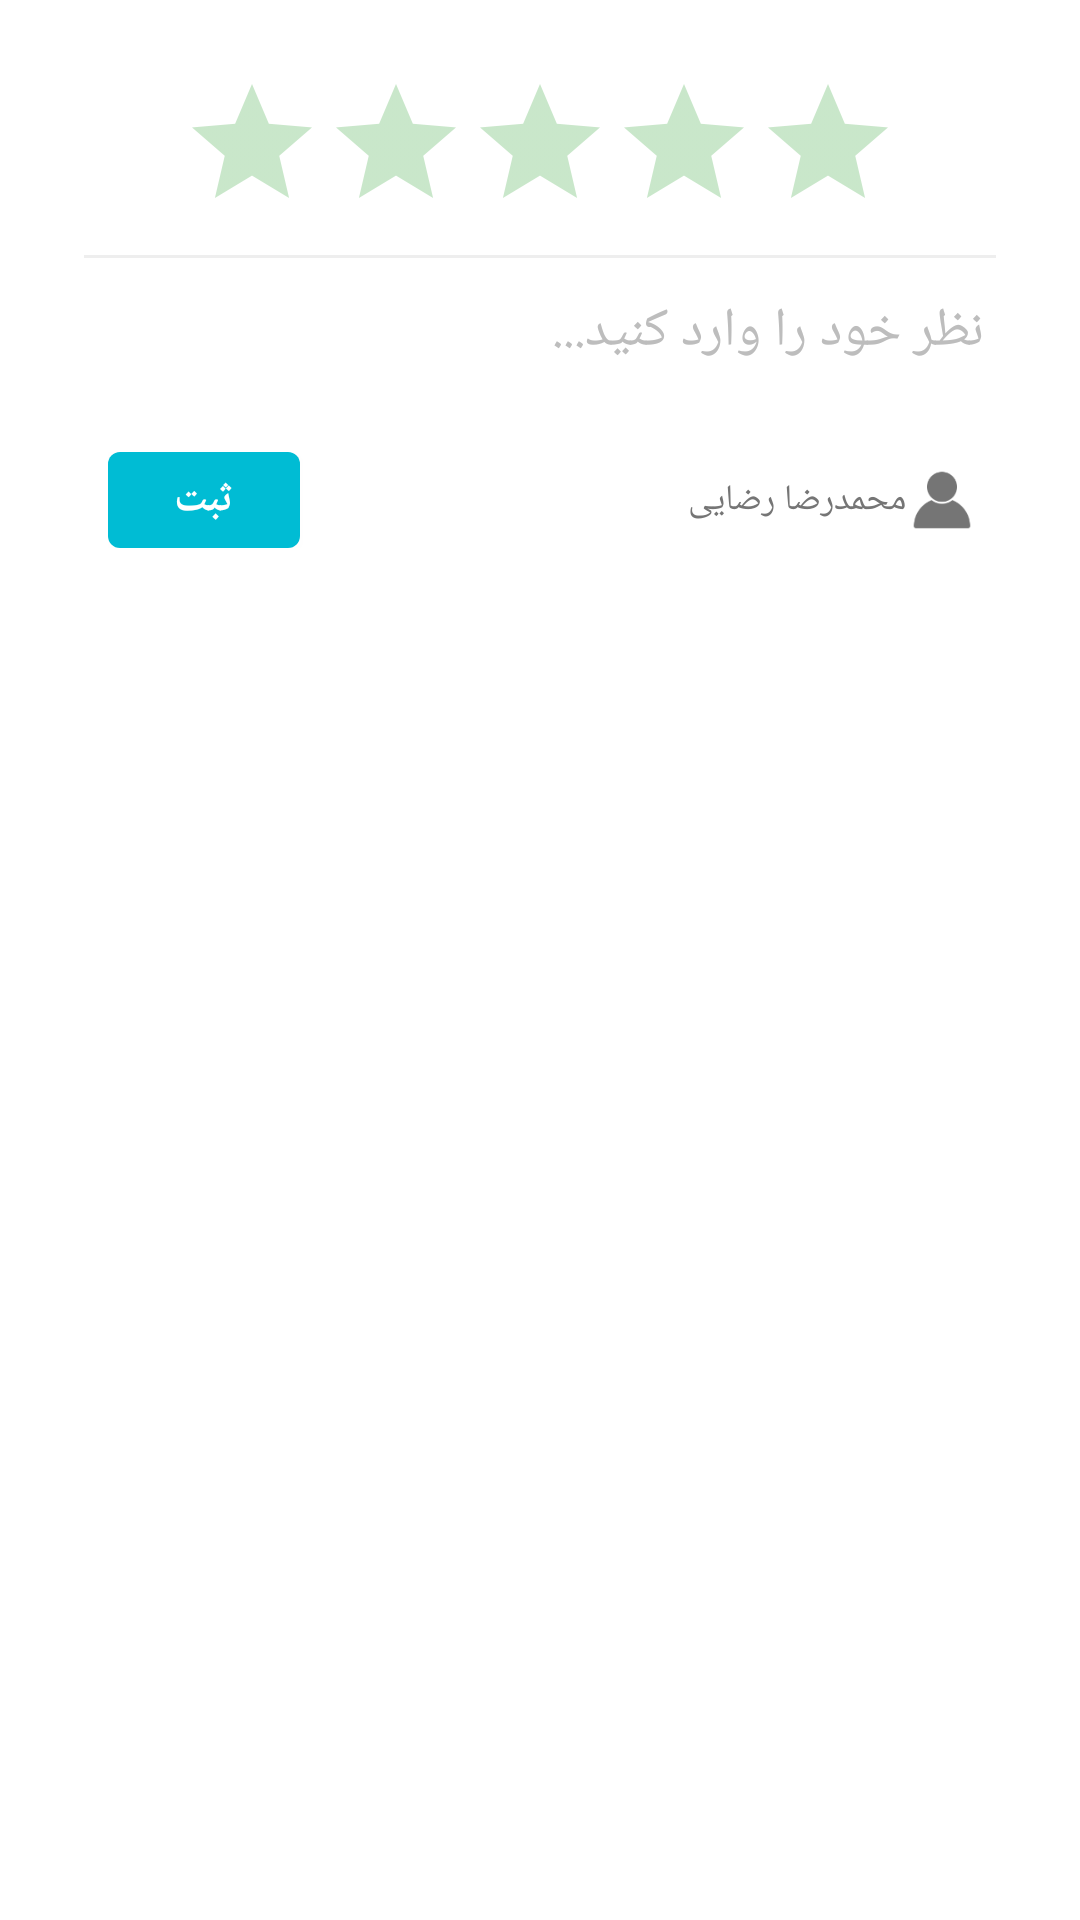

Screen size 1080 × 1920. Icon name, then its center in pixels as (x,y):
profile: (942,500)
